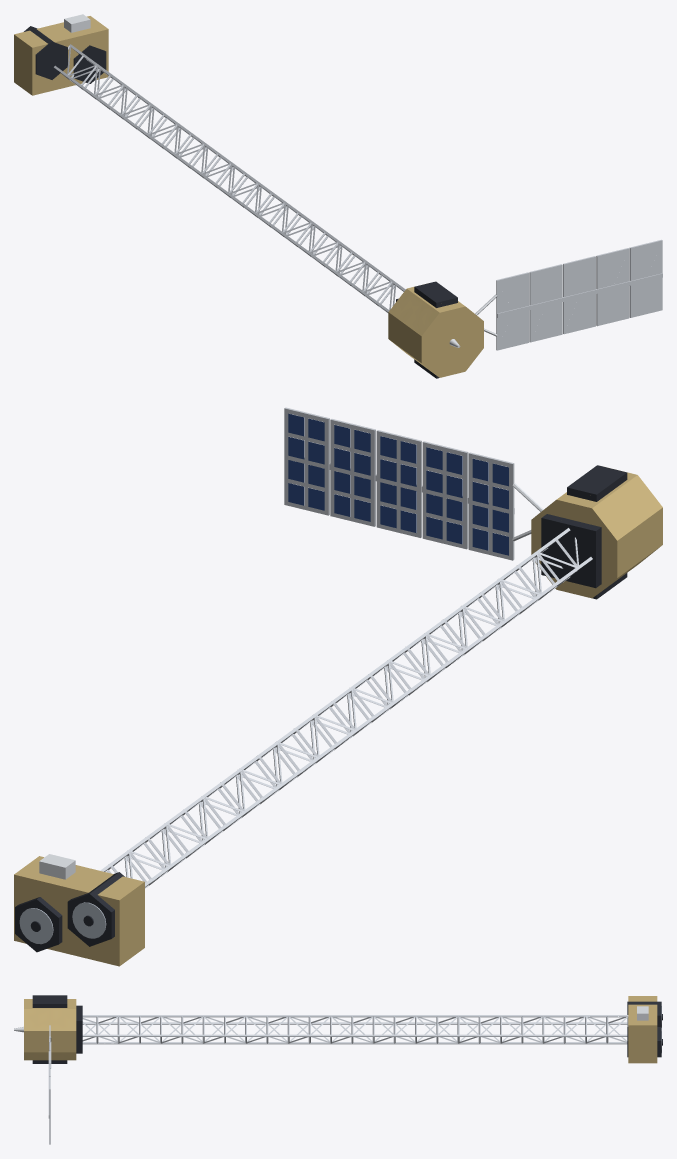
File: nustar.glb
The picture shows the model from 3 angles, top to bottom: view 1: azimuth 30°, elevation 25°; view 2: azimuth 150°, elevation 25°; view 3: azimuth 270°, elevation 25°; orthographic projection. The views are drawn at different scales.
Parts seen in each view (by area): view 1: body, foil; view 2: body, foil, solar-panel; view 3: body, foil.
Boxes of the visible parts, box(x1,y1,x2,y2) form: body: box(24, 14, 662, 378); foil: box(14, 16, 483, 377); body: box(15, 407, 627, 952); foil: box(14, 472, 662, 966); solar-panel: box(288, 413, 508, 555); body: box(14, 995, 662, 1144); foil: box(24, 996, 657, 1063).
Bounding box in the file's own units: 4.15 × 1.14 × 11.16.
